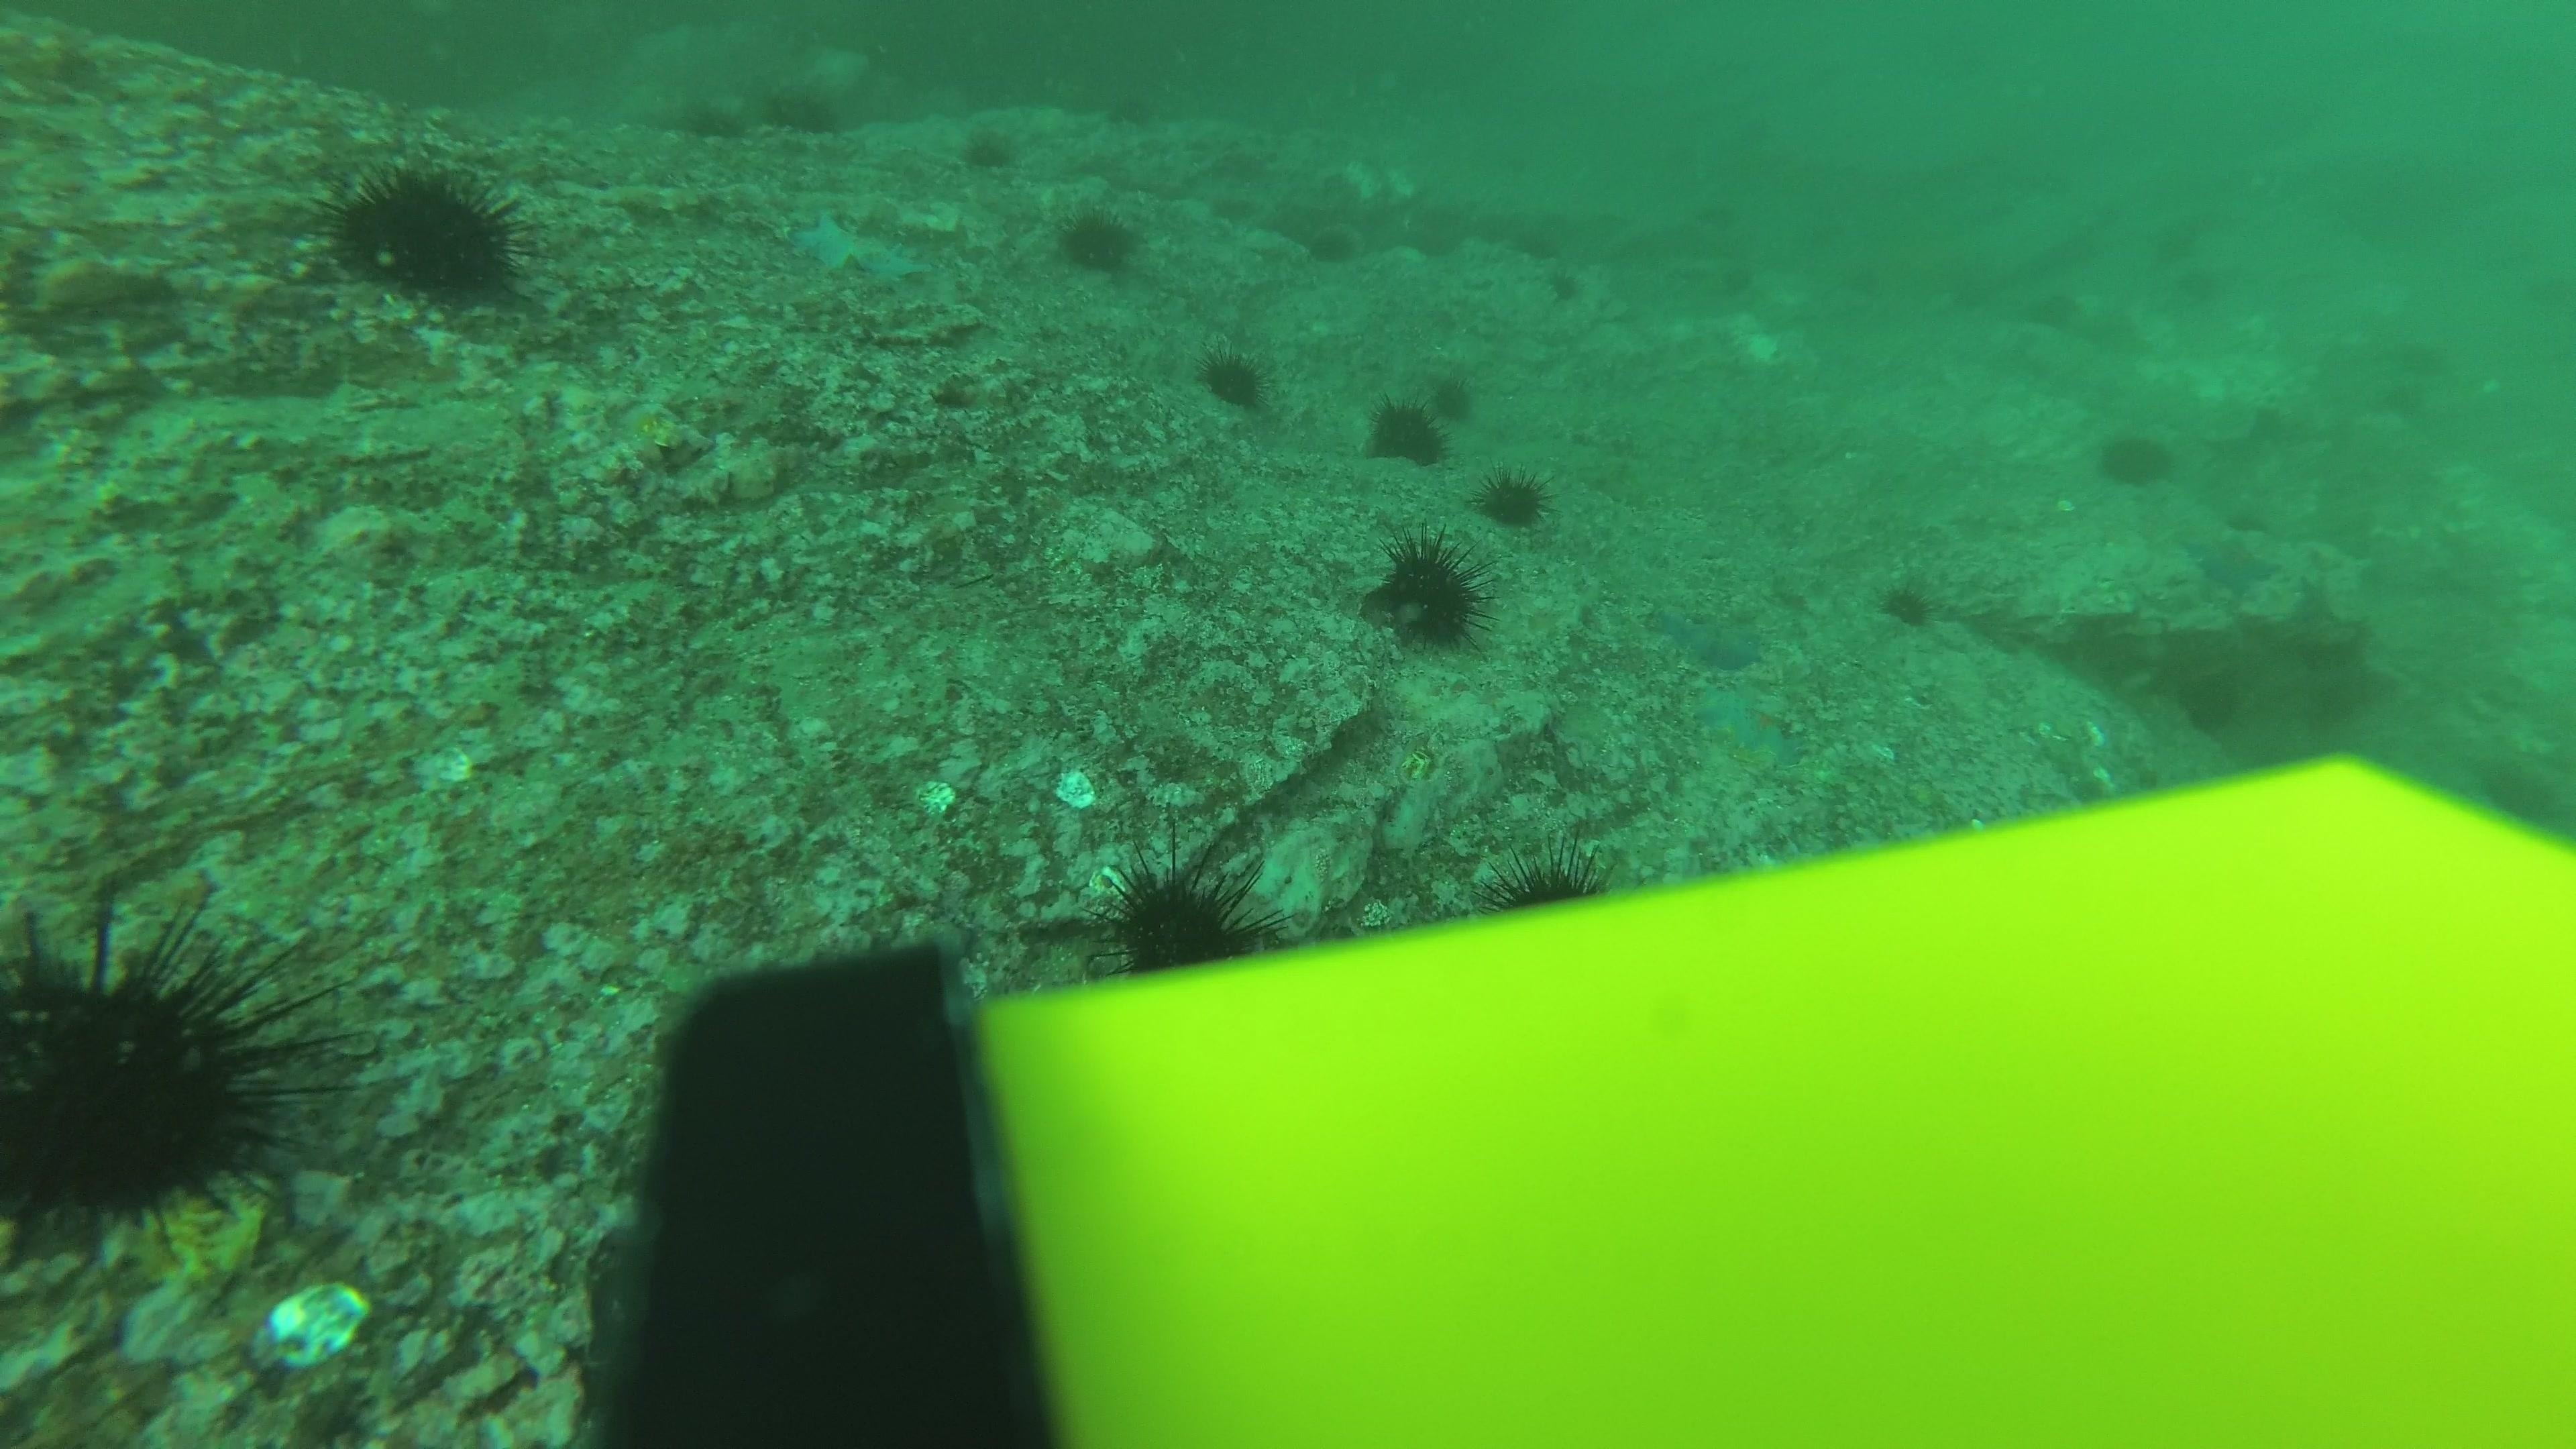echinus: (2, 895, 347, 1254), (322, 156, 529, 308), (1095, 849, 1277, 975), (1368, 534, 1488, 653), (1474, 839, 1615, 916), (1054, 200, 1143, 276), (1366, 389, 1451, 467), (1399, 370, 1474, 455), (2093, 423, 2176, 490), (1476, 464, 1552, 531), (2174, 667, 2247, 736), (1196, 343, 1270, 410), (764, 78, 839, 136), (1875, 571, 1939, 632), (1840, 257, 1904, 317), (1527, 258, 1591, 318), (1509, 230, 1573, 290), (1684, 188, 1748, 248), (2158, 260, 2220, 320), (2141, 212, 2203, 272), (2231, 398, 2295, 456), (2373, 382, 2436, 441), (2383, 336, 2447, 395), (1723, 97, 1787, 156), (1405, 221, 1468, 280), (1408, 191, 1472, 249), (1300, 157, 1364, 216), (1205, 127, 1269, 186), (1099, 85, 1162, 143), (1798, 214, 1861, 272), (2026, 276, 2088, 334), (1709, 258, 1771, 317), (957, 122, 1017, 175), (676, 94, 741, 140), (1302, 219, 1361, 267), (1941, 278, 1987, 320)
starfish: (784, 205, 929, 287), (1686, 679, 1806, 773), (1645, 596, 1771, 674), (2181, 527, 2282, 596)
